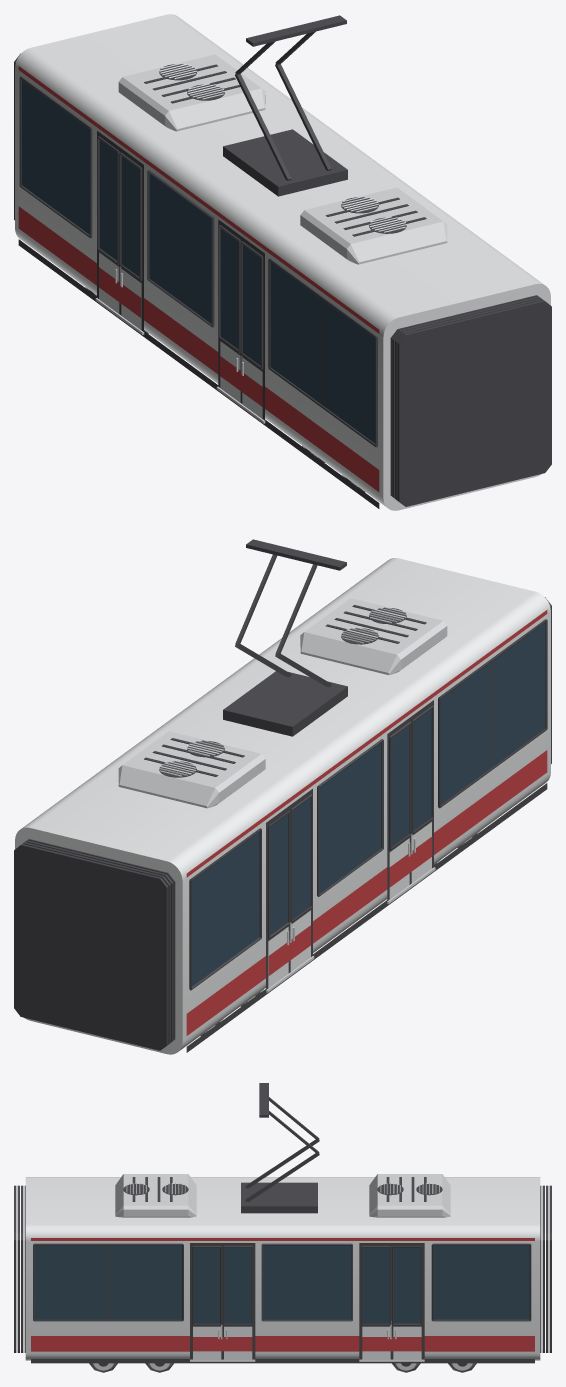
Rendered from 371_close.fbx.
3 renders of one model, top to bottom at view 1: azimuth 30°, elevation 25°; view 2: azimuth 150°, elevation 25°; view 3: azimuth 270°, elevation 25°, orthographic. The views are drawn at different scales.
Parts seen in each view (by area): view 1: 371_close; view 2: 371_close; view 3: 371_close.
Part boxes in pixels (<box>): 371_close: <box>14,14,551,510</box>; 371_close: <box>14,539,551,1054</box>; 371_close: <box>14,1083,551,1372</box>.
Bounding box in the file's own units: 2.59 × 5.21 × 9.95.
